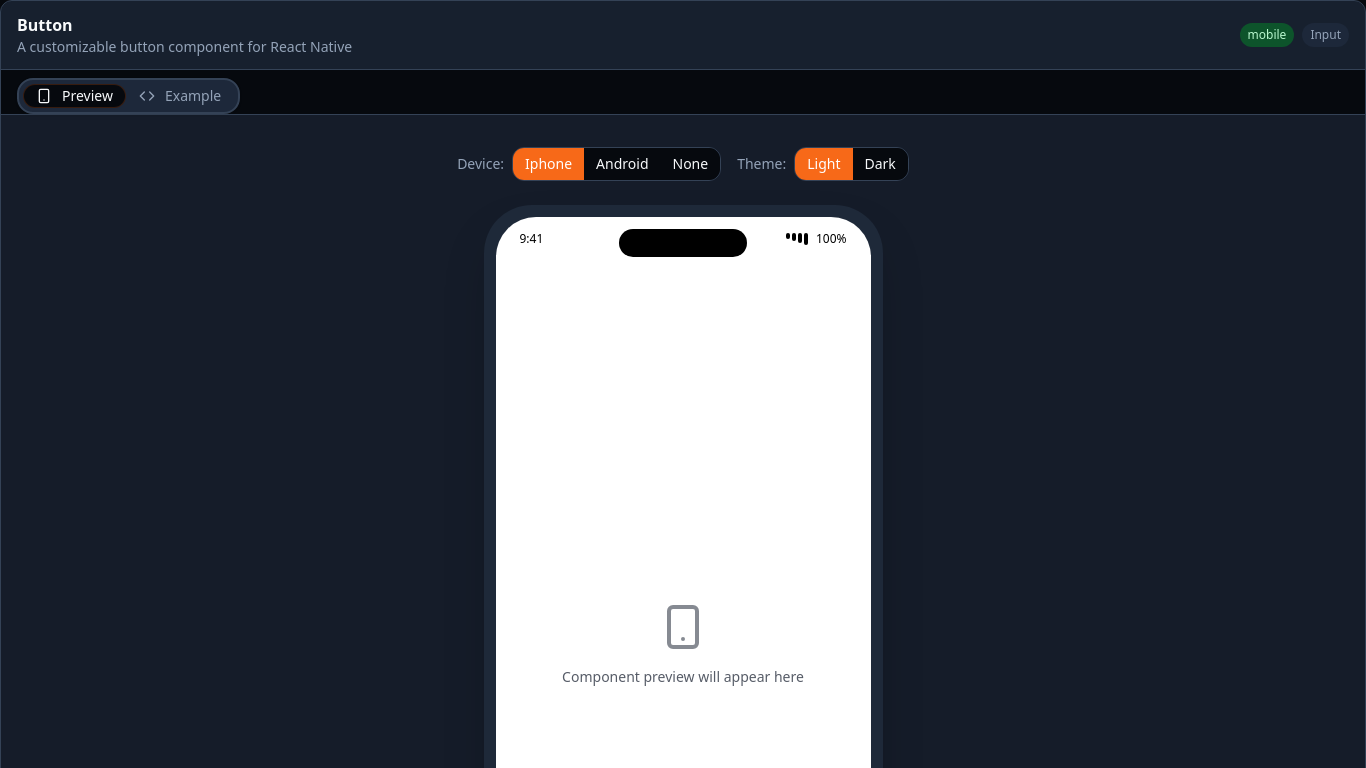
Test: MobileComponentPreview › switches device frame when clicking device buttons
Click the button "android". click: (622,164)
box: [584,148,660,180]
(page scrolled)
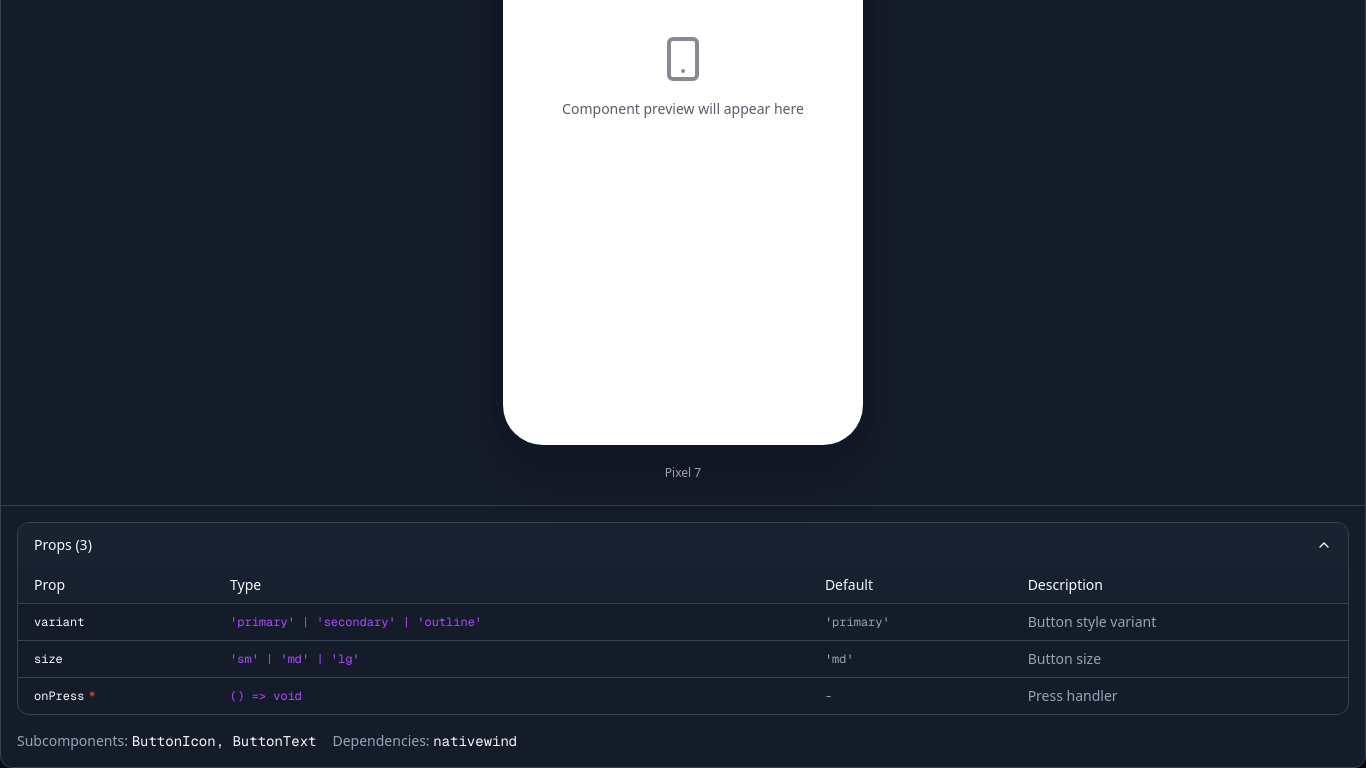
Result: the text "Pixel 7" is shown at [665,464,701,481]
